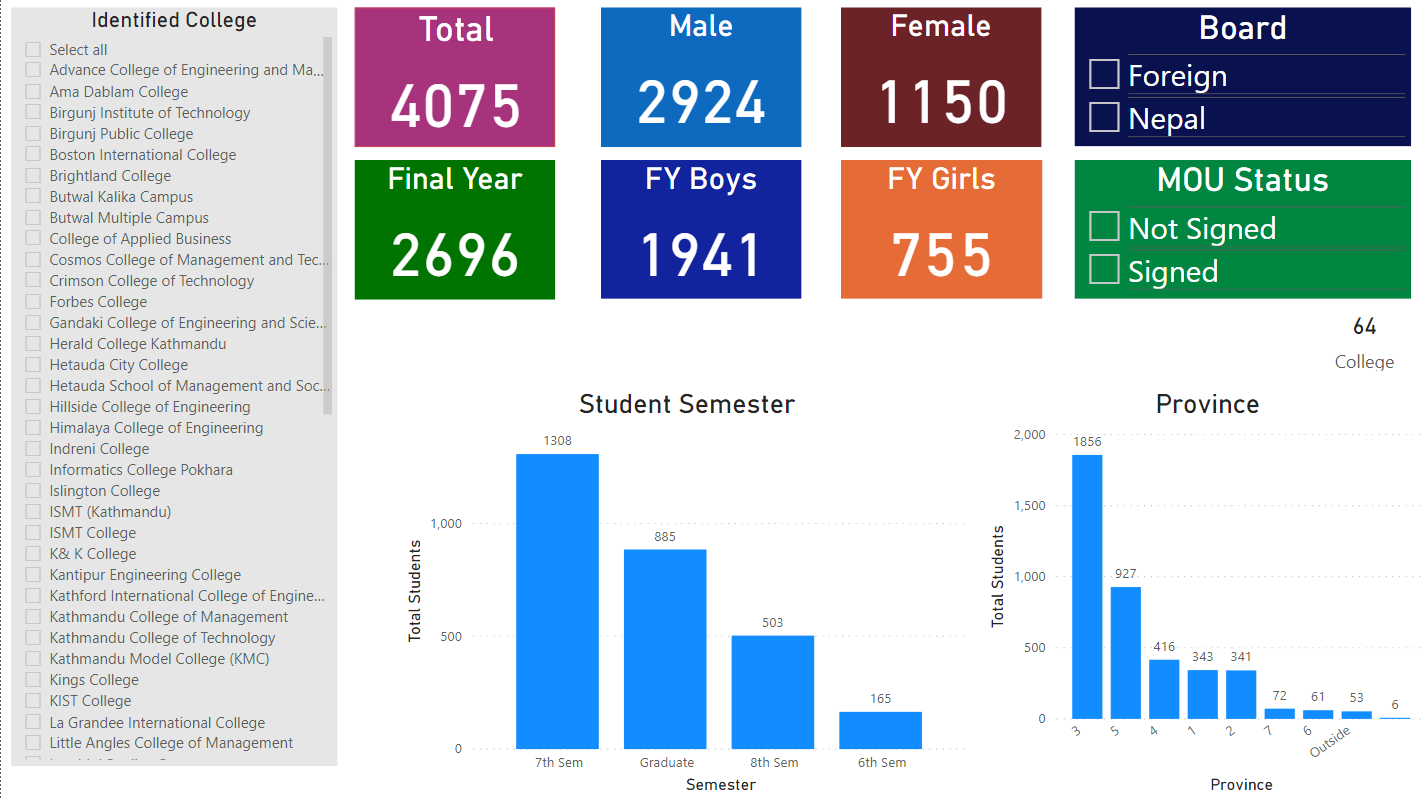

What the dashboard file says about the page in this screenshot:
{"tool":"powerbi","page":{"name":"MOU College","canvas":[1280,720],"ordinal":1},"visuals":[{"type":"slicer","title":"Identified College","fields":{"Values":["identifiedCollege (2).profile_field_collegename"]},"box":[9.3,11.6,292.1,678.4],"z":0},{"type":"card","title":"Total","fields":{"Values":["CountNonNull(user_latest.id)"]},"box":[316.5,11.6,179.2,124.5],"z":1000},{"type":"card","title":"Male","fields":{"Values":["CountNonNull(user_latest.profile_field_gender)"]},"box":[536.4,11.6,179.2,124.5],"z":2000},{"type":"card","title":"Female","fields":{"Values":["CountNonNull(user_latest.profile_field_gender)"]},"box":[751.7,11.6,179.2,124.5],"z":3000},{"type":"columnChart","title":"Student Semester","fields":{"Category":["user_latest.profile_field_Semester1"],"Y":["CountNonNull(user_latest.profile_field_Semester)1"]},"box":[356.4,351.5,513.9,368.5],"z":4000},{"type":"columnChart","title":"Province","fields":{"Category":["user_latest.profile_field_Province"],"Y":["CountNonNull(user_latest.profile_field_Province)"]},"box":[879,351.6,401,368.1],"z":5000},{"type":"slicer","title":"MOU Status","fields":{"Values":["identifiedCollege (2).status"]},"box":[960.4,147.6,300.7,124.1],"z":6000},{"type":"card","title":"Final Year","fields":{"Values":["CountNonNull(user_latest.id)"]},"box":[316.5,147.8,179.2,124.5],"z":7000},{"type":"card","title":"FY Boys","fields":{"Values":["CountNonNull(user_latest.profile_field_gender)"]},"box":[536.6,147.6,178.9,124.1],"z":8000},{"type":"card","title":"FY Girls","fields":{"Values":["CountNonNull(user_latest.profile_field_gender)"]},"box":[751.3,147.6,180,124.1],"z":9000},{"type":"slicer","title":"Board","fields":{"Values":["identifiedCollege (2).board"]},"box":[960.4,11.2,300.7,124.1],"z":10000},{"type":"card","fields":{"Values":["CountNonNull(identifiedCollege.profile_field_collegename)"]},"box":[1178.2,272.7,82.4,67.9],"z":11000}]}

Visuals, with their boxes in screenshot pixels (x1, y1, x2, y2), scaled from the page's 1280x720 canvas onto the 1425x800 screenshot:
"Identified College" slicer: box=[10, 13, 336, 767]
"Total" card: box=[352, 13, 552, 151]
"Male" card: box=[597, 13, 797, 151]
"Female" card: box=[837, 13, 1036, 151]
"Student Semester" columnChart: box=[397, 391, 969, 799]
"Province" columnChart: box=[979, 391, 1424, 799]
"MOU Status" slicer: box=[1069, 164, 1404, 302]
"Final Year" card: box=[352, 164, 552, 303]
"FY Boys" card: box=[597, 164, 797, 302]
"FY Girls" card: box=[836, 164, 1037, 302]
"Board" slicer: box=[1069, 12, 1404, 150]
card - CountNonNull(identifiedCollege.profile_field_collegename): box=[1312, 303, 1403, 378]
